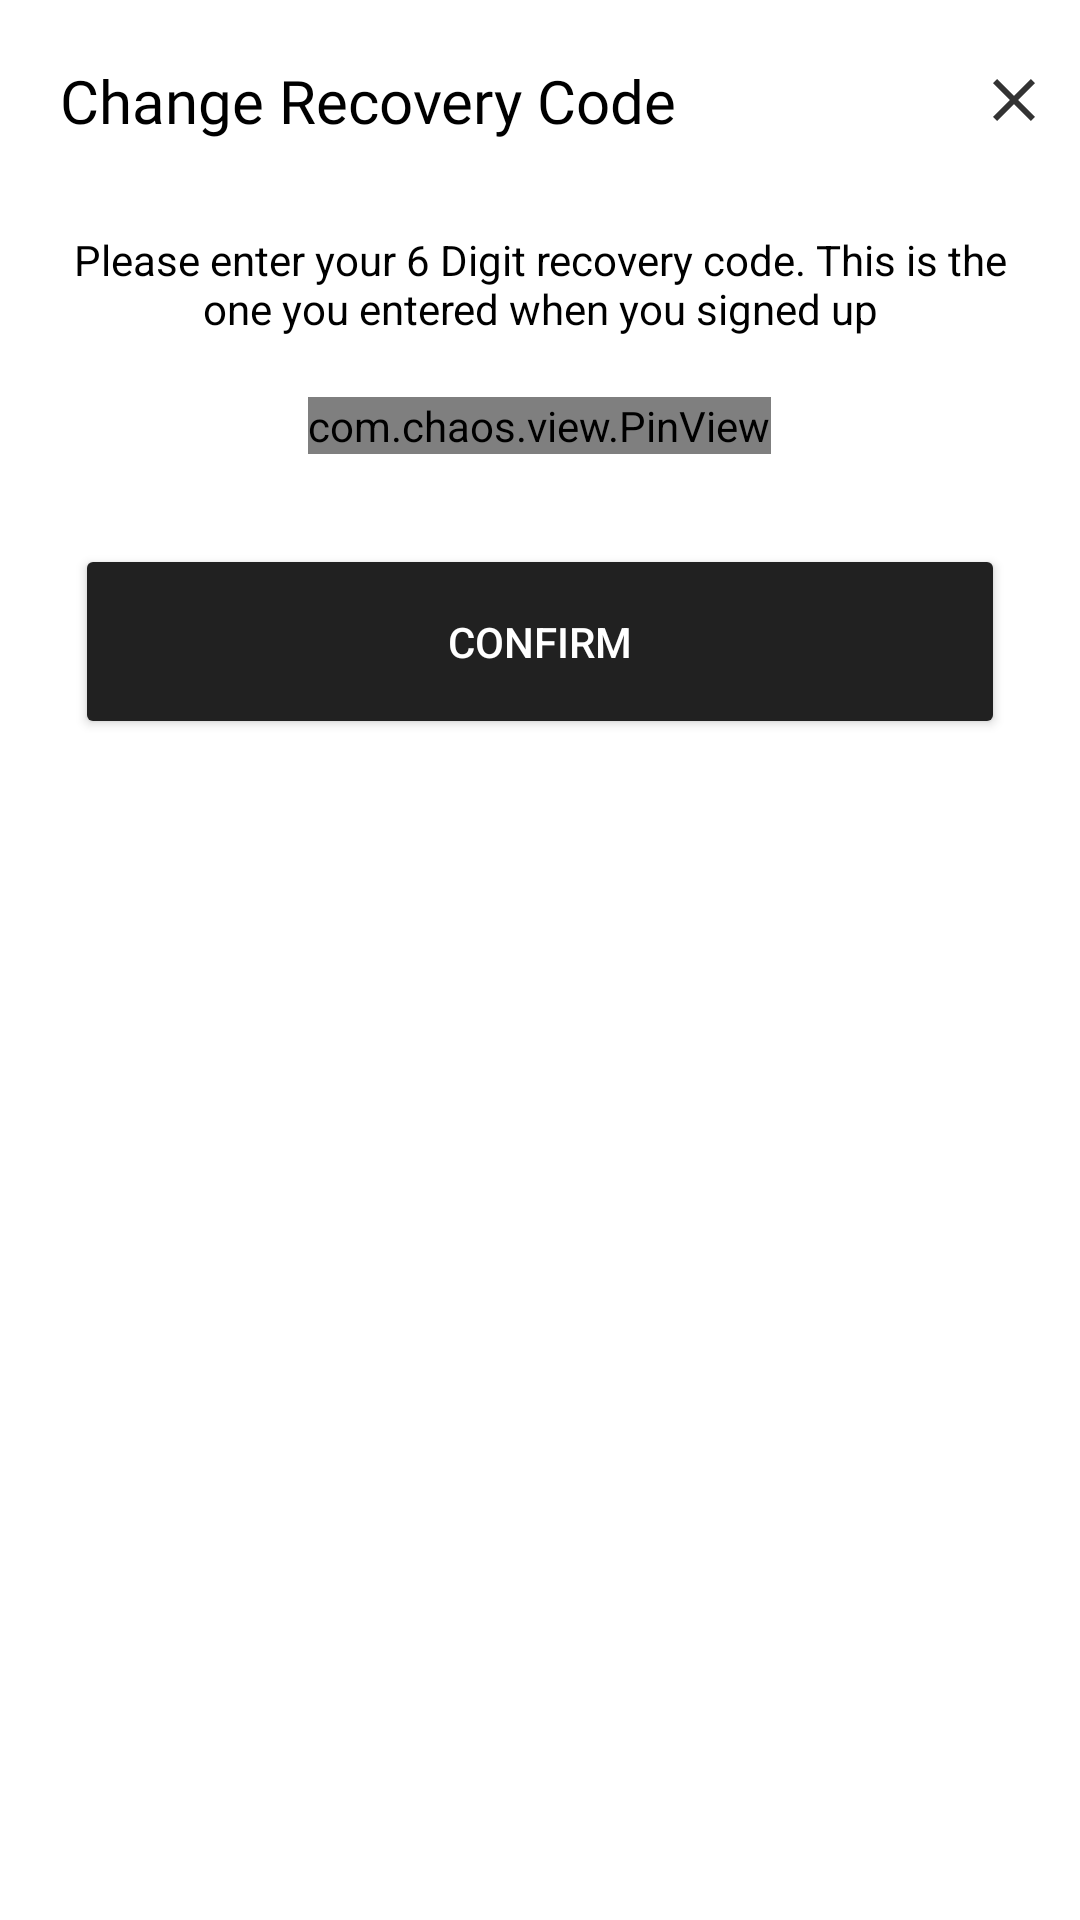

Screen size 1080x1920. Icon name, then its center in pixels as [x,y]:
close: [1014,100]
